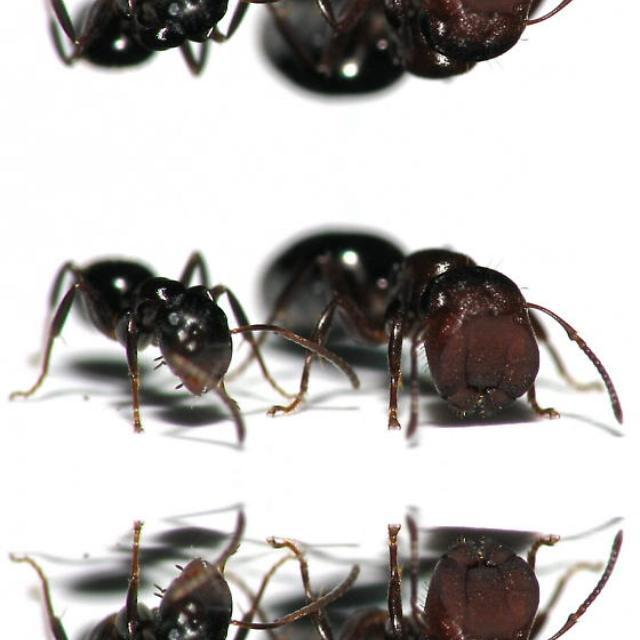Colobopsis: (245, 204, 635, 462), (0, 234, 382, 444), (245, 490, 635, 640), (0, 508, 382, 640), (245, 0, 635, 122), (0, 0, 382, 92)
